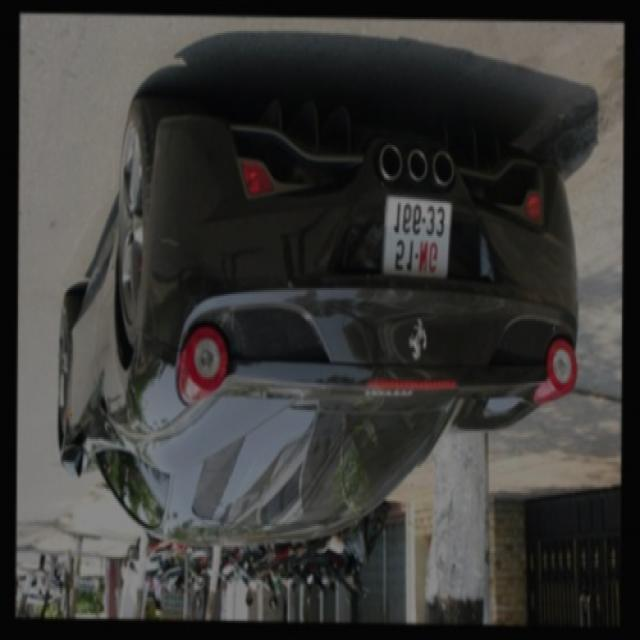bien_ngoai_giao: (386, 199, 449, 283)
